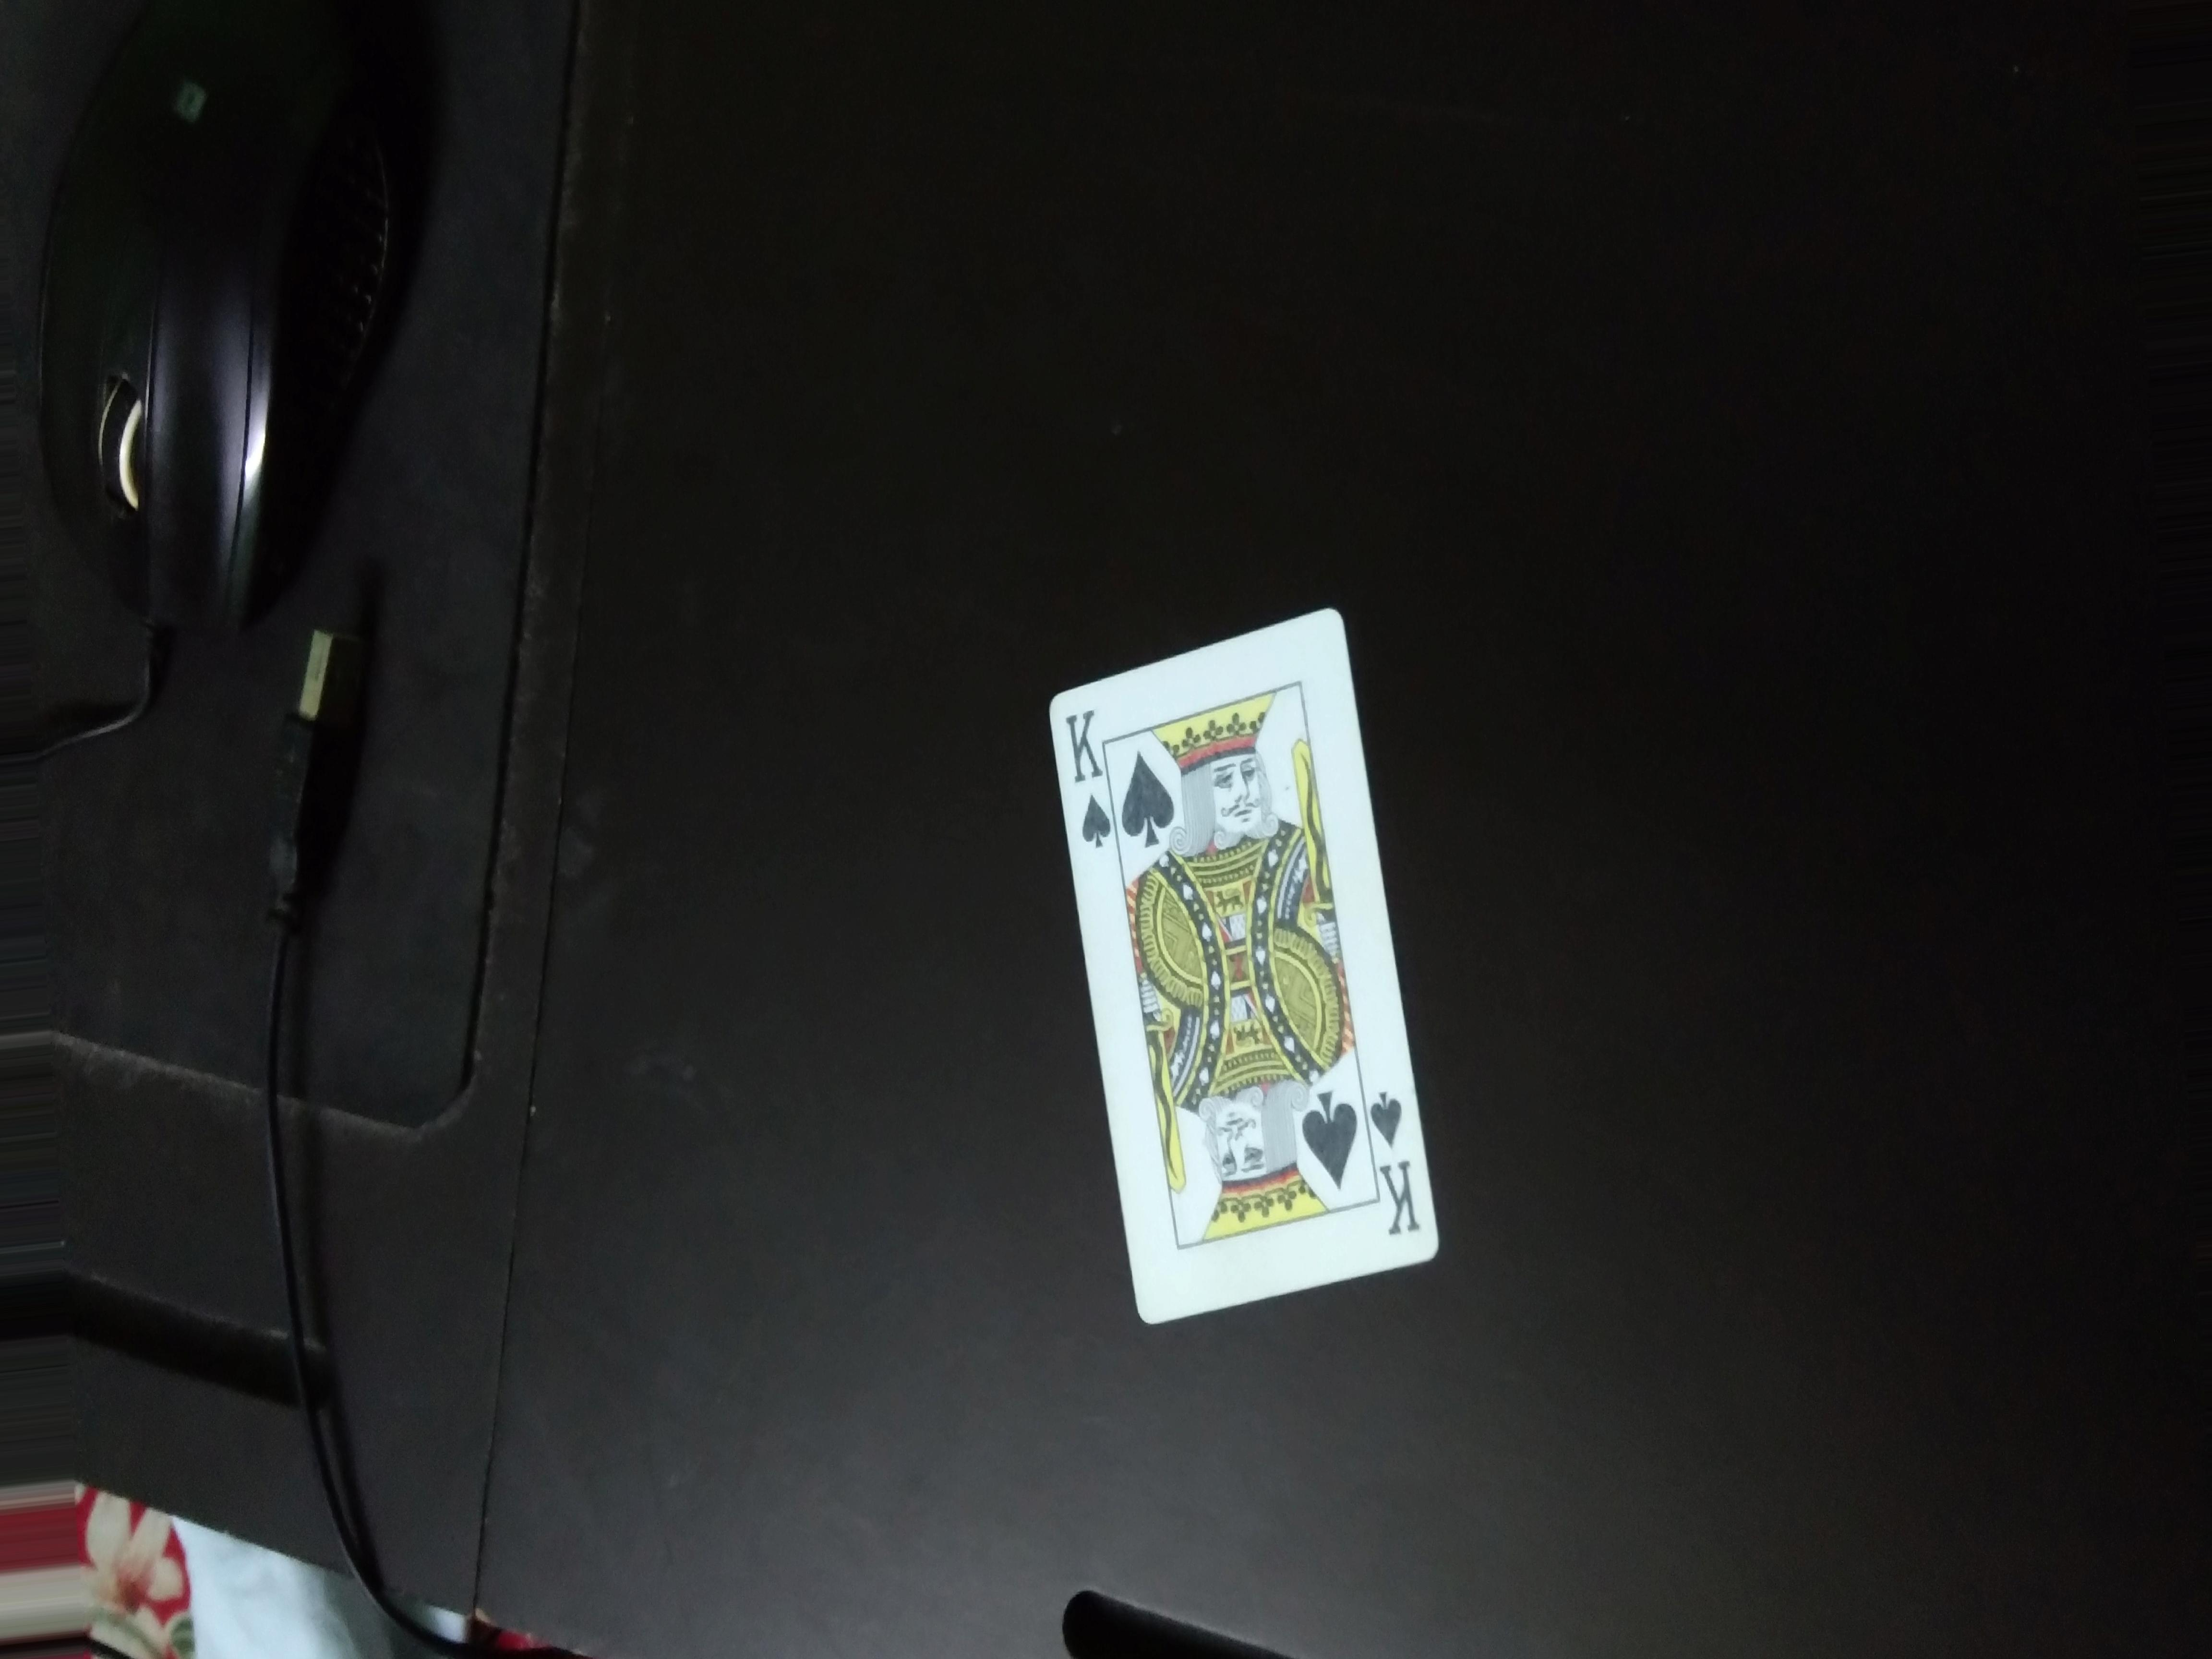KS: (1049, 692, 1113, 850)
